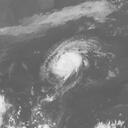cyclone: (40, 39, 96, 83)
